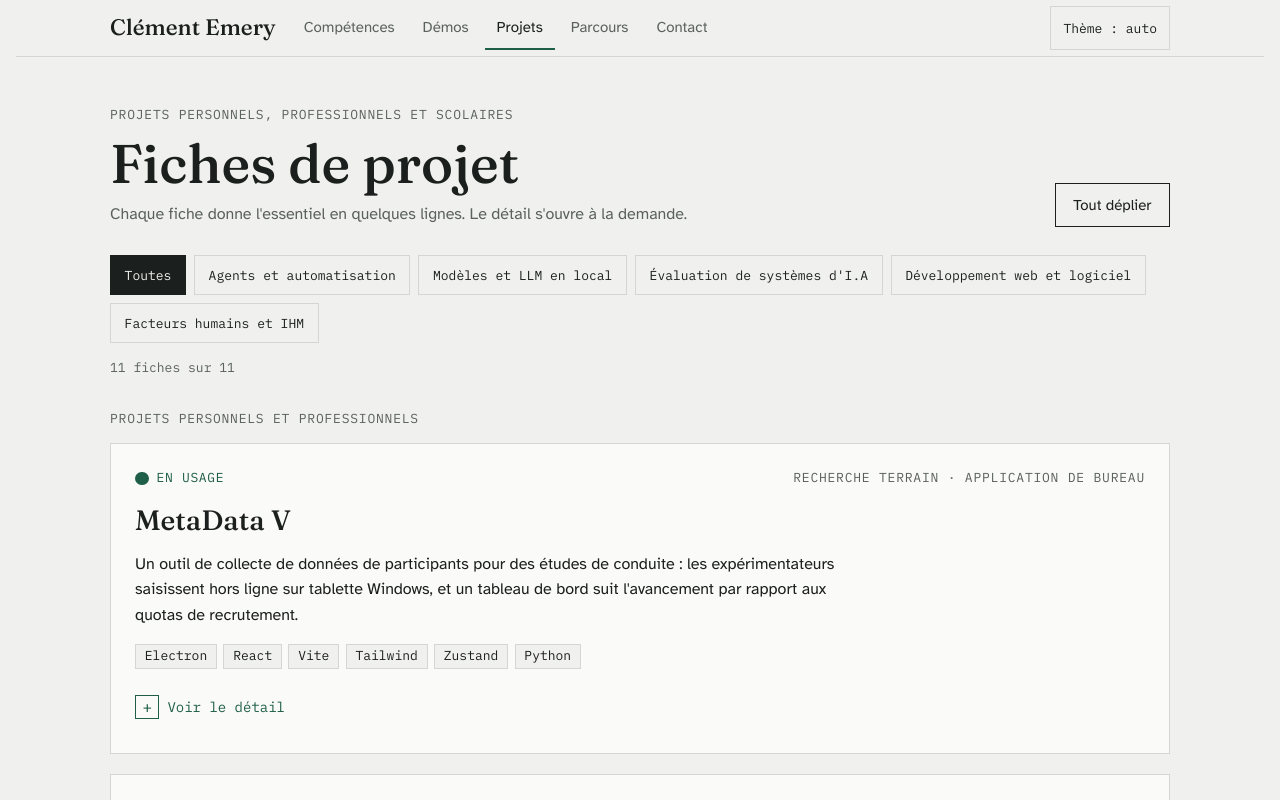
fiches de projet › filtre les fiches par compétence et annonce le résultat
Later steps or results of the test are not shown.
What coordinates should you click on to do the following:
click the button "Agents et automatisation"
I would click on:
 (302, 275)
Its box is [194,255,410,295].
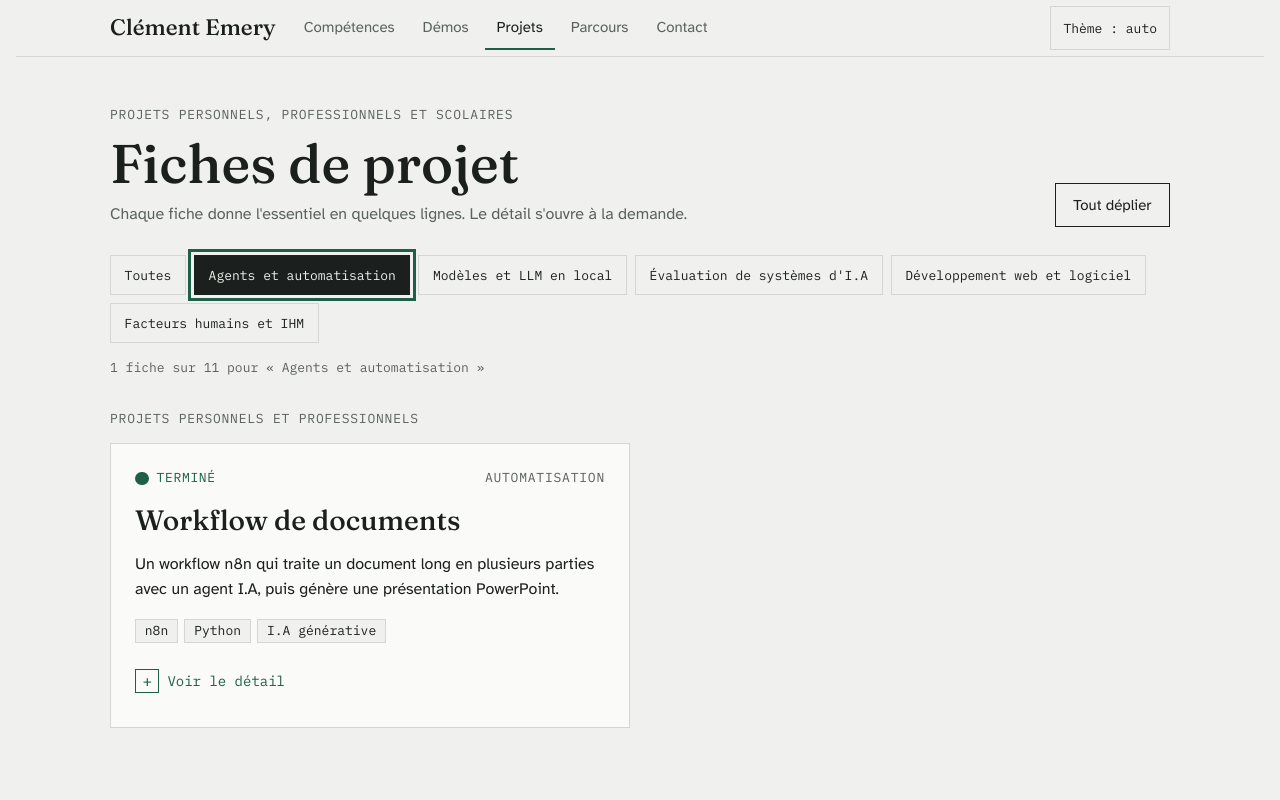
Now the button "Agents et automatisation" is pressed, box [194,255,410,295]
